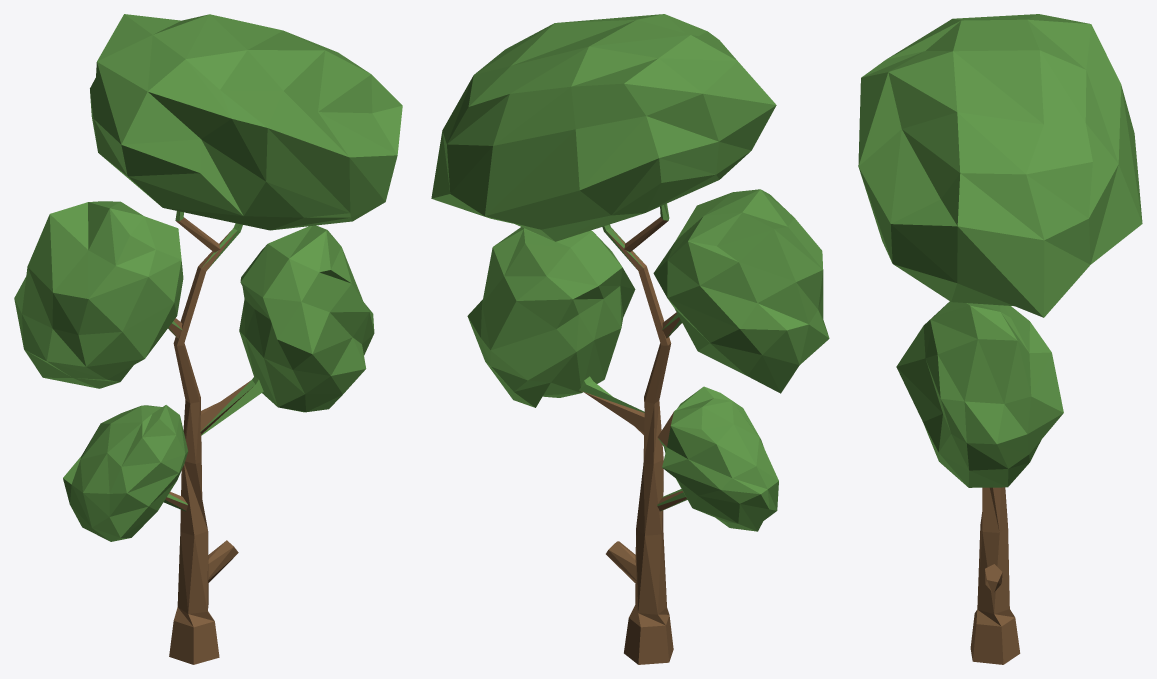
The model's file is tree3d-138.glb.
3 renders of one model, left to right at view 1: azimuth 30°, elevation 25°; view 2: azimuth 150°, elevation 25°; view 3: azimuth 270°, elevation 25°, orthographic.
Parts seen in each view (by area): view 1: tree3d-138; view 2: tree3d-138; view 3: tree3d-138.
Part boxes in pixels (x1,y1,x2,y2): tree3d-138: [14, 14, 402, 664]; tree3d-138: [431, 14, 829, 664]; tree3d-138: [858, 14, 1142, 664].
Bounding box in the file's own units: 0.6116 × 1 × 0.4133.
